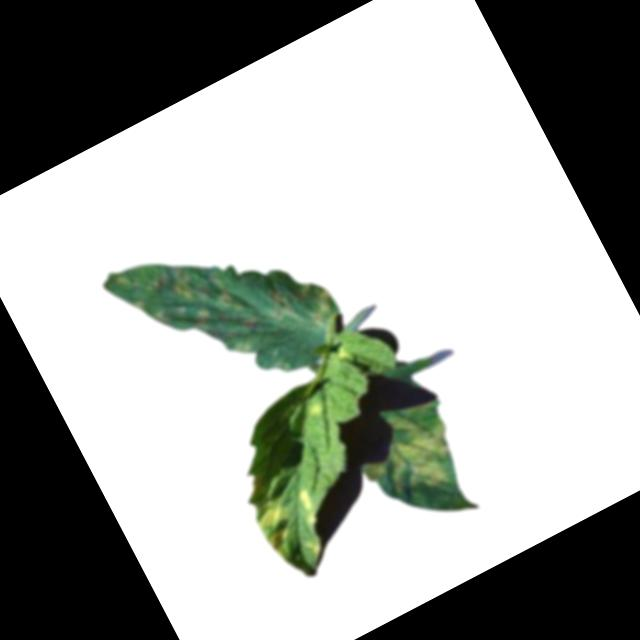Leaf_Mold: (346, 396, 472, 517), (251, 496, 313, 565), (297, 279, 346, 331), (207, 271, 247, 320), (165, 259, 204, 307), (262, 283, 303, 328), (292, 483, 324, 525), (191, 305, 215, 330), (304, 398, 327, 423)
